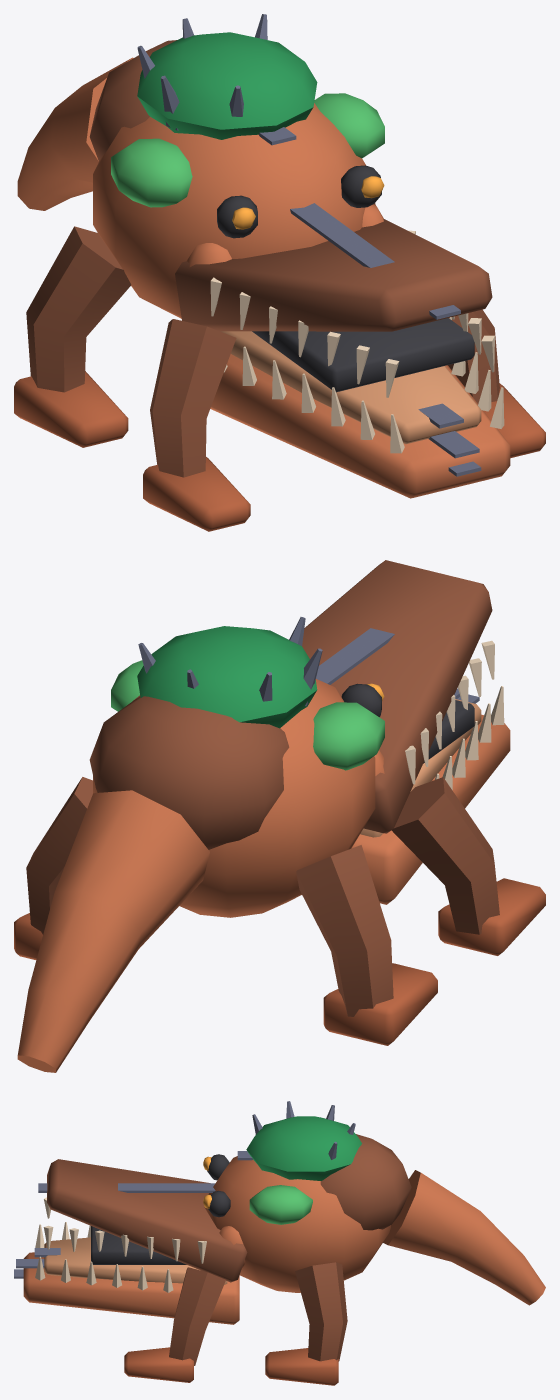
The model's file is mire_snapper.glb.
3 renders of one model, top to bottom at view 1: azimuth 30°, elevation 25°; view 2: azimuth 150°, elevation 25°; view 3: azimuth 270°, elevation 25°, orthographic. The views are drawn at different scales.
Parts seen in each view (by area): view 1: MireSnapper; view 2: MireSnapper; view 3: MireSnapper.
Part boxes in pixels (x1,y1,x2,y2): MireSnapper: [14, 14, 545, 531]; MireSnapper: [14, 560, 545, 1072]; MireSnapper: [14, 1101, 545, 1385].
Size of the model in its own units: 3.93 by 3.4 by 7.89.
1 material, 1 textured.
